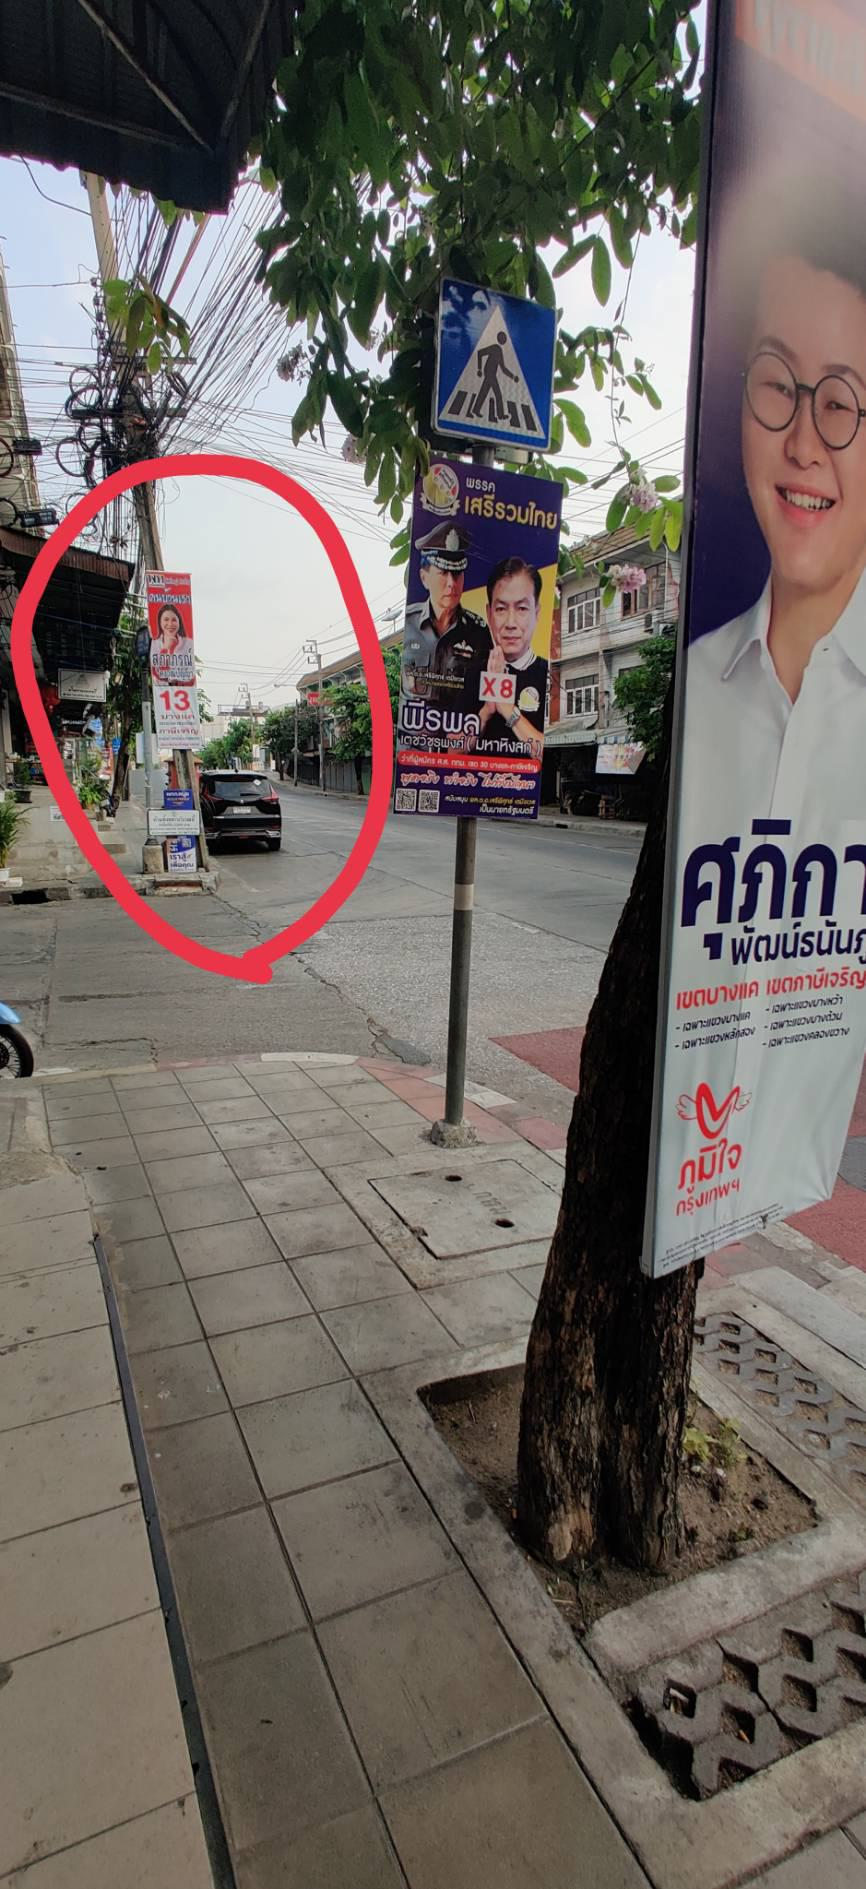Banner: (649, 0, 866, 1285), (391, 458, 566, 816)
